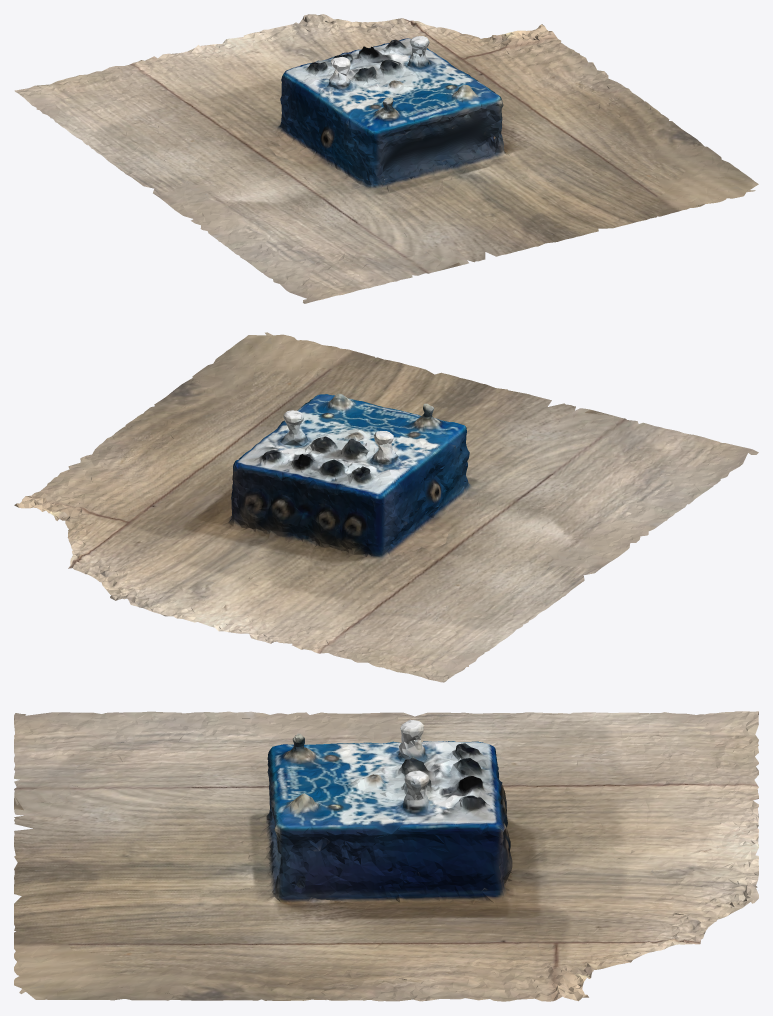
The model's file is mbo_pedals_avrun.glb.
3 renders of one model, top to bottom at view 1: azimuth 30°, elevation 25°; view 2: azimuth 150°, elevation 25°; view 3: azimuth 270°, elevation 25°, orthographic. The views are drawn at different scales.
Size of the model in its own units: 0.363 by 0.0661 by 0.3954.
Materials: 1 (1 with a texture image).
